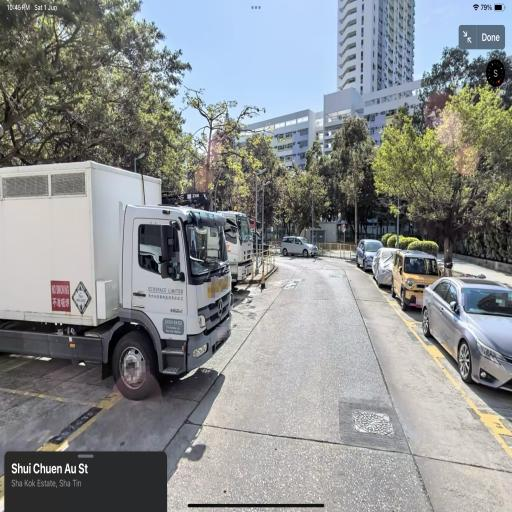Roads: (20, 244, 501, 496)
Trees: (178, 77, 394, 229), (366, 64, 512, 254)
